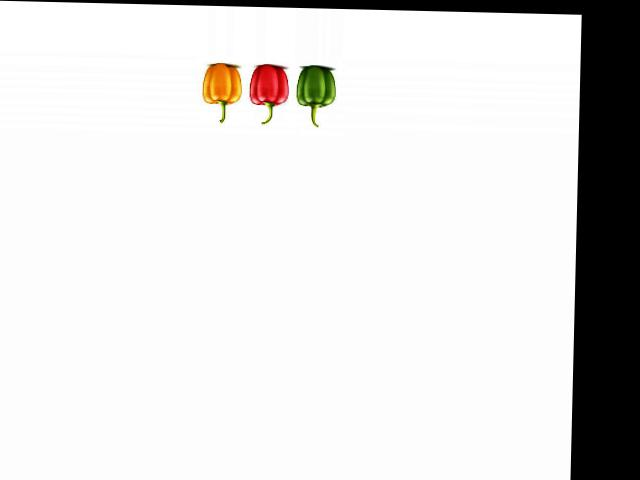bell_pepper: (296, 62, 340, 127)
